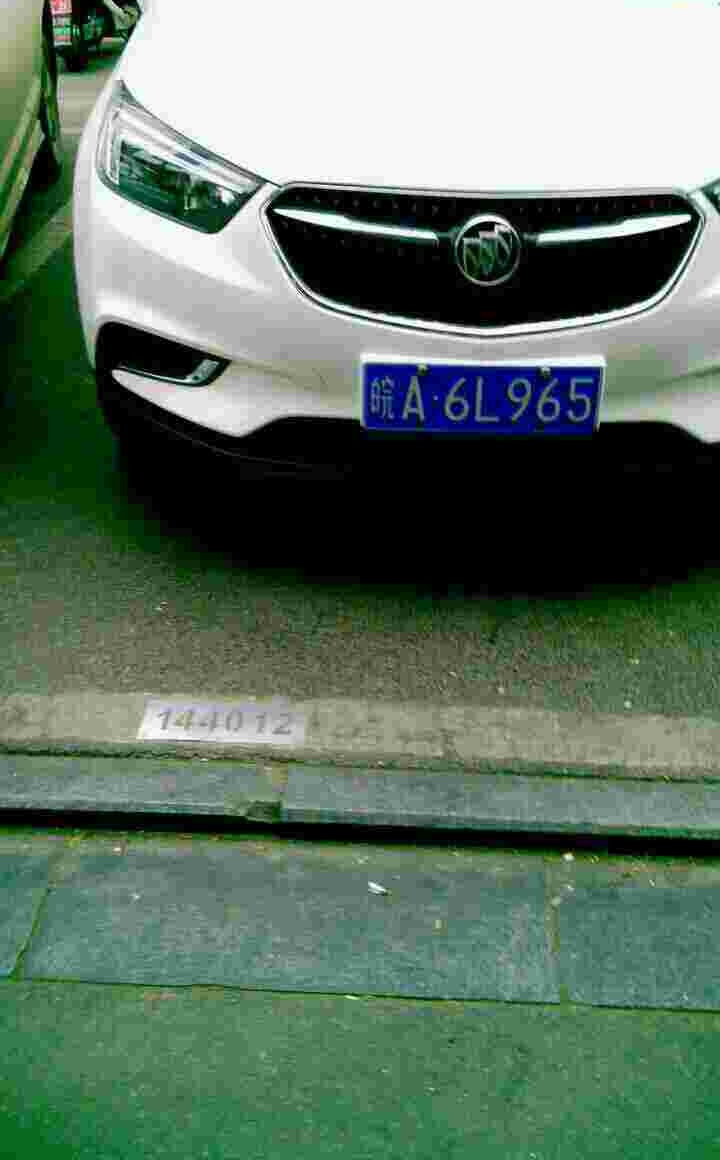license_plate: (360, 357, 589, 443)
